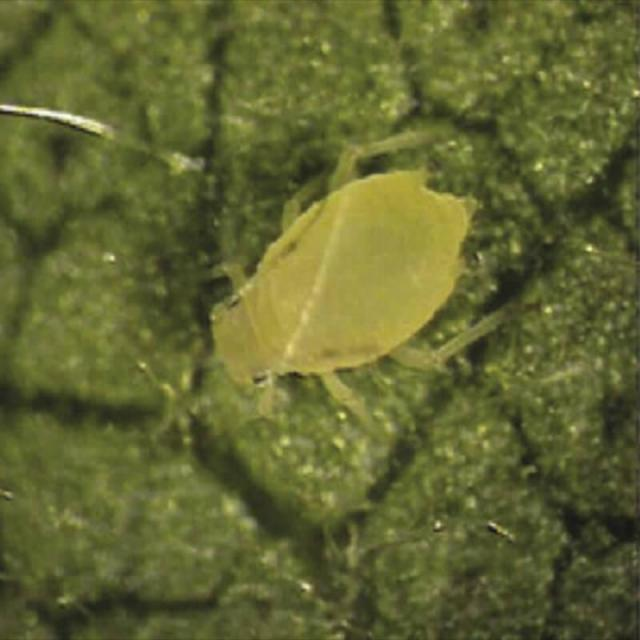aphid: (219, 155, 483, 405)
